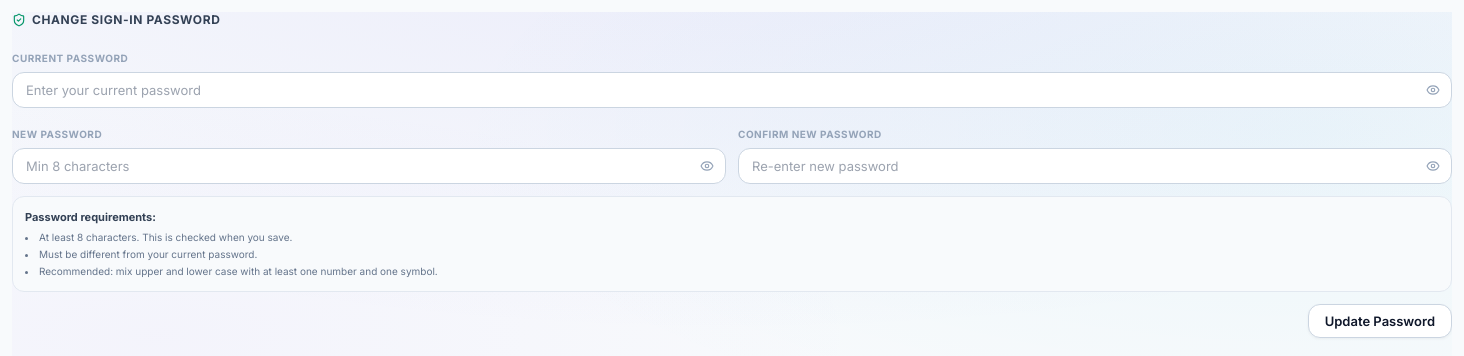
Test: AccountSecurityPanel in-flight state › shows progress, disables the button and ignores a second submit
Type "the-old-secret" into the password field with placeholder "Enter your current password". click: {"x": 732, "y": 90}
box: [12,72,1452,108]
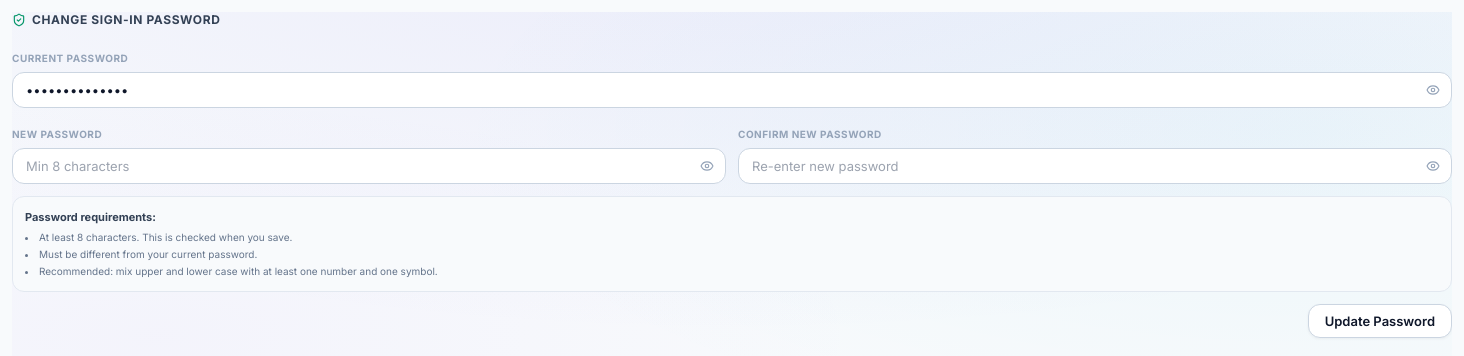
Type "a-brand-new-secret" into the password field with placeholder "Min 8 characters". click: {"x": 369, "y": 166}
box: [12,148,726,184]
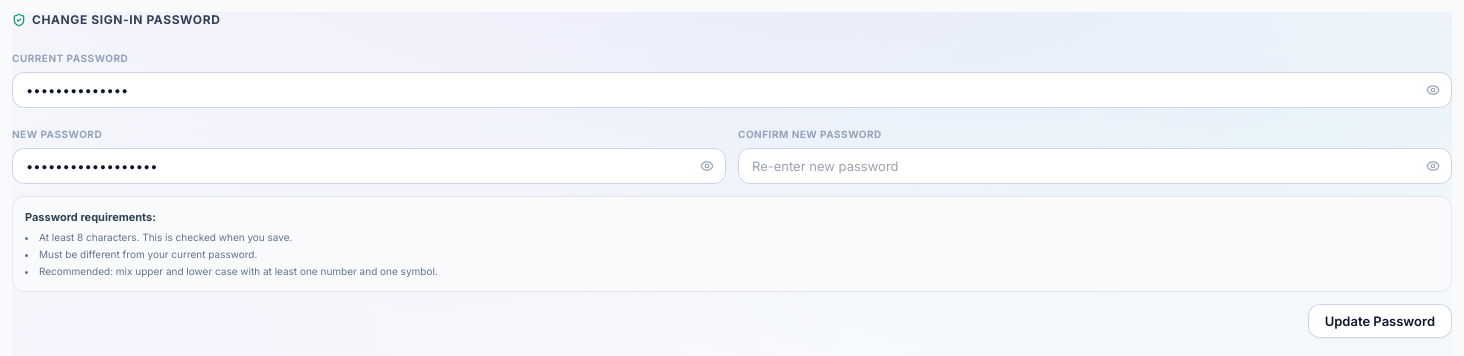
Type "a-brand-new-secret" into the password field with placeholder "Re-enter new password". click: {"x": 1095, "y": 166}
box: [738,148,1452,184]
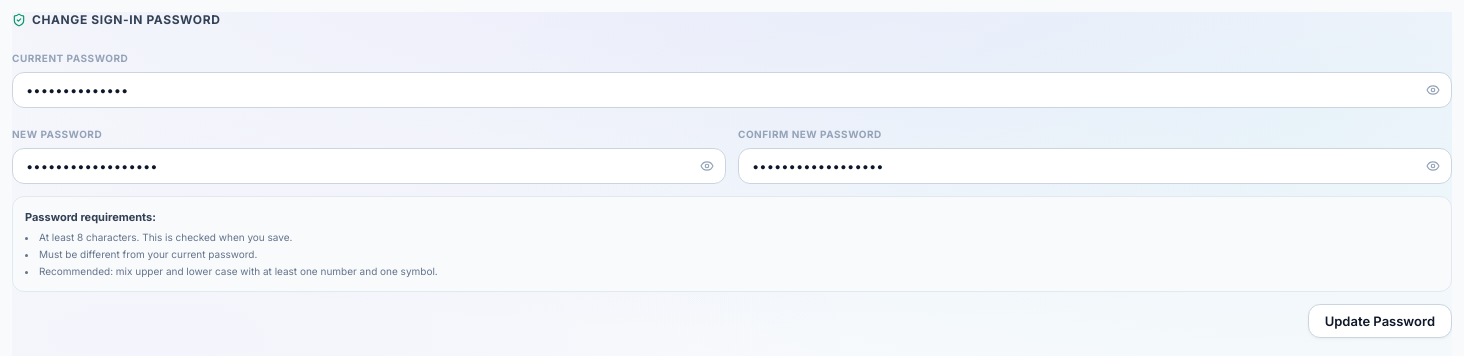
Click the button "Update Password". click: {"x": 1380, "y": 320}
box: [1308,304,1452,338]
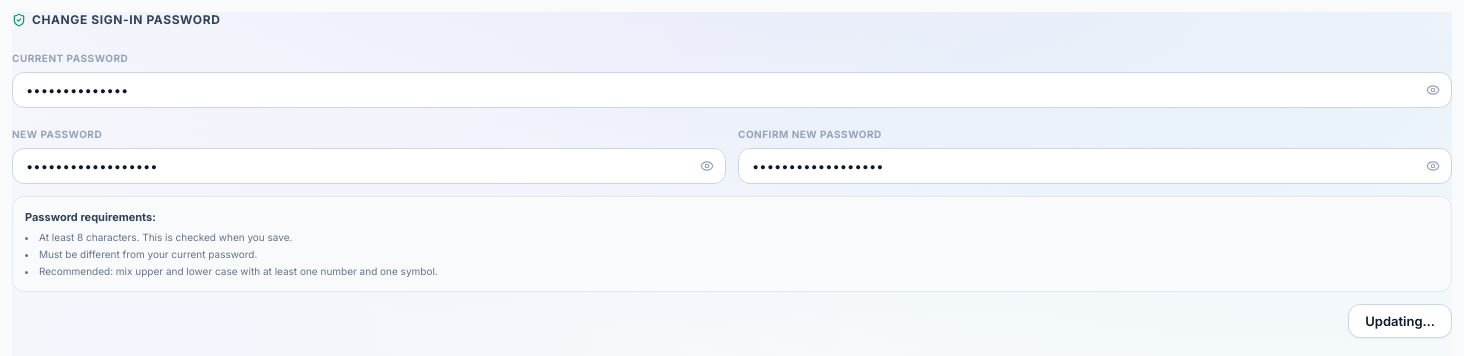
expect the button "Updating…" is disabled: met, box [1348,304,1452,338]
Submit the form named "Updating…"
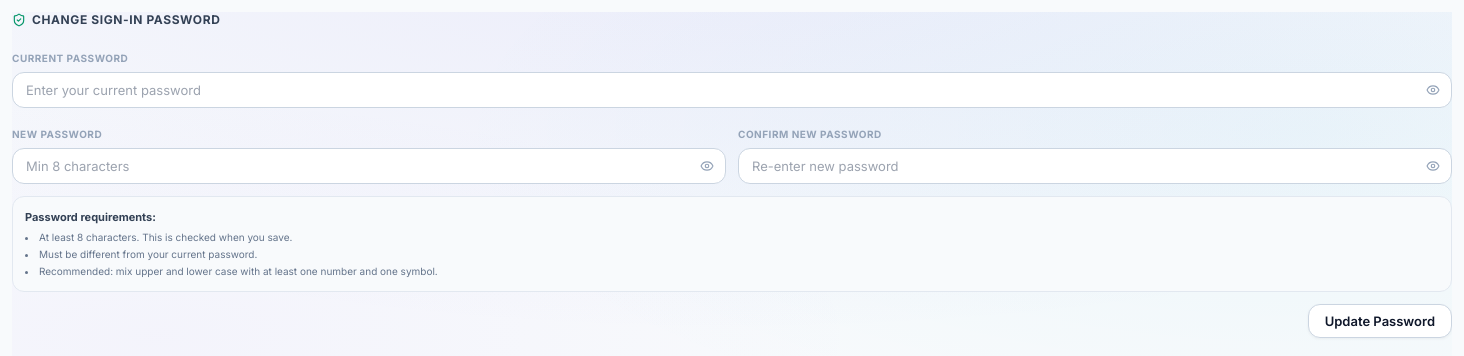
expect the button "Update Password" is enabled: met, box [1308,304,1452,338]
